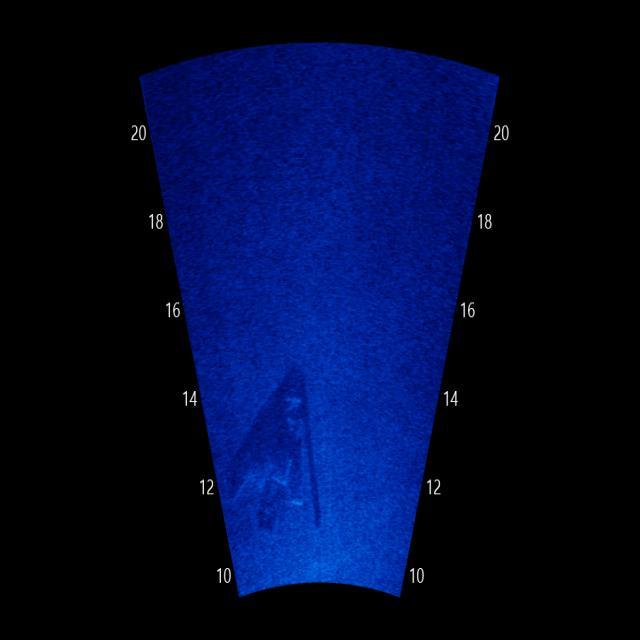triangle: (217, 359, 330, 552)
